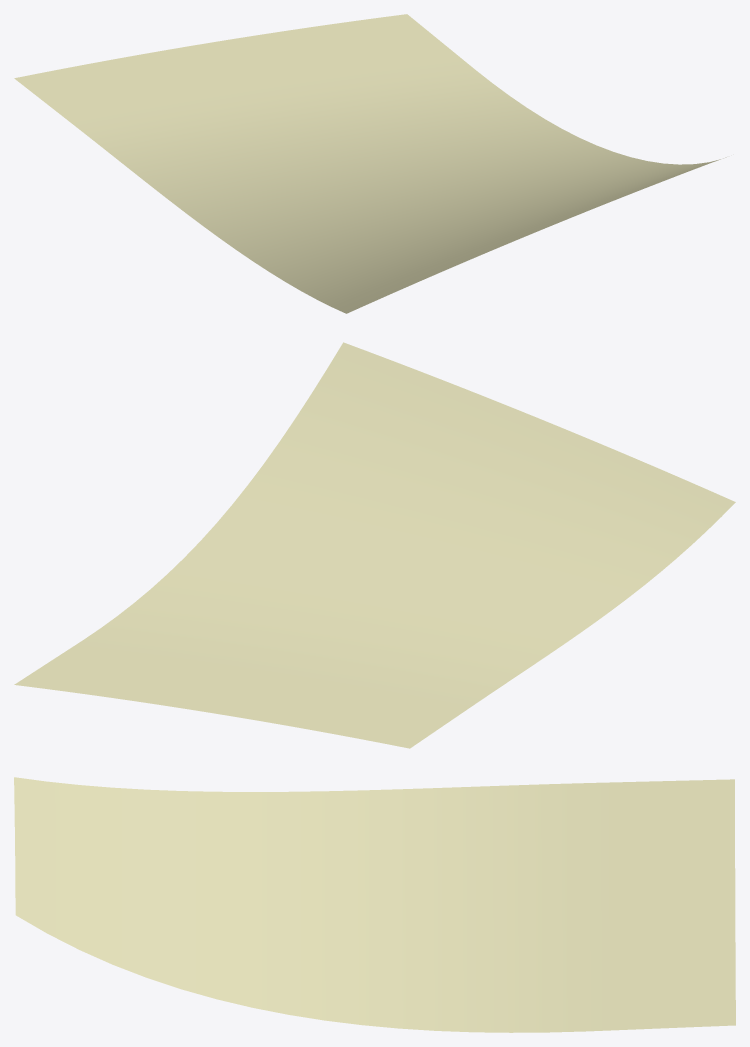
The model's file is post-it Curled.fbx.
The picture shows the model from 3 angles, top to bottom: view 1: azimuth 30°, elevation 25°; view 2: azimuth 150°, elevation 25°; view 3: azimuth 270°, elevation 25°; orthographic projection. The views are drawn at different scales.
Visible parts, largest first — view 1: Plane041; view 2: Plane041; view 3: Plane041.
Part boxes in pixels (x1,y1,x2,y2): Plane041: [14, 14, 726, 313]; Plane041: [14, 342, 735, 748]; Plane041: [14, 777, 735, 1032].
Size of the model in its own units: 5.03 by 1.3 by 7.21.
